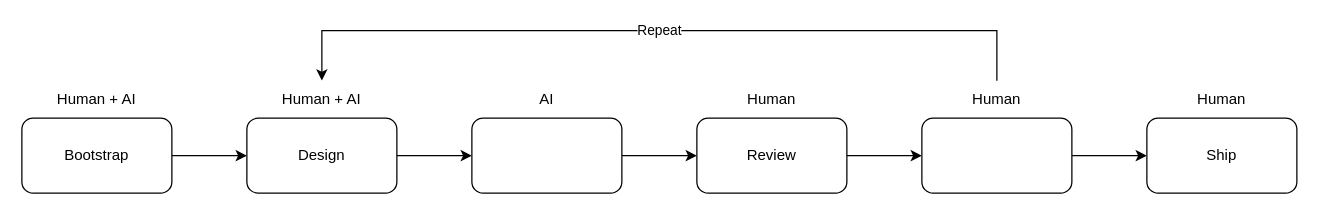
Image size: 1319x215. Some labels were removed from this diagram. The centre of each missing label's shape, as x and y in pixels:
Code: pixel 546 155
Test: pixel 996 155
